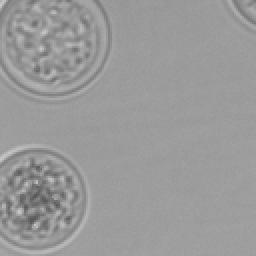picoshell: (0, 0, 110, 100), (0, 144, 90, 254), (224, 0, 254, 30)
